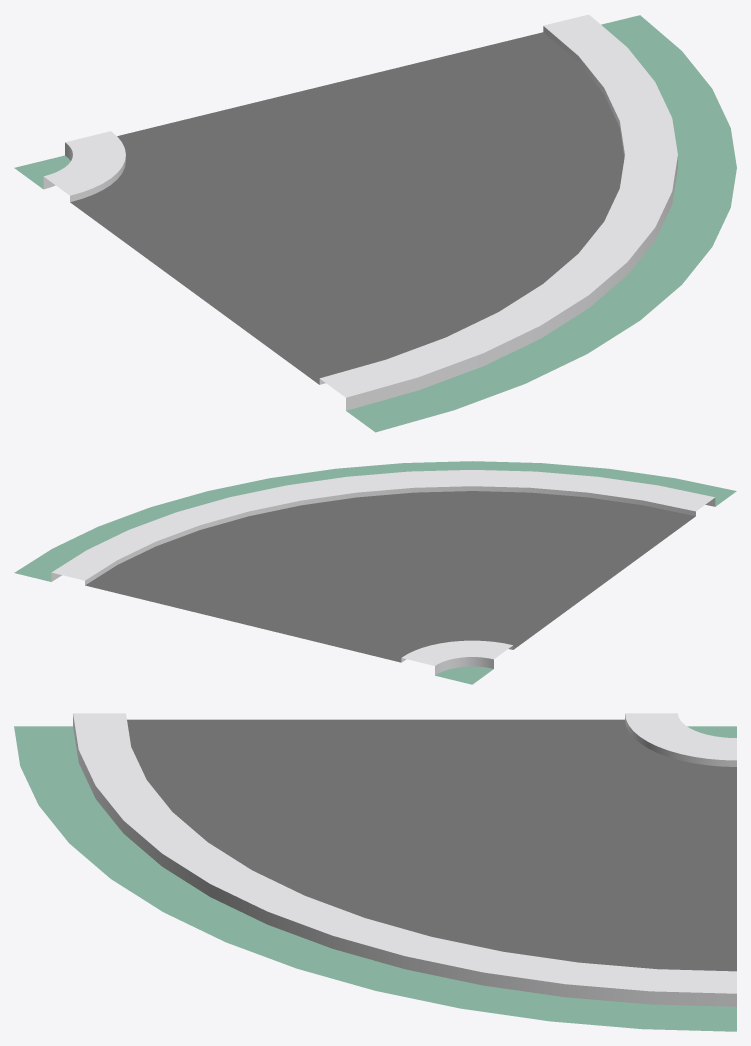
File: road12.fbx
3 views of the same model, one above another, from view 1: azimuth 30°, elevation 25°; view 2: azimuth 150°, elevation 25°; view 3: azimuth 270°, elevation 25° (orthographic). The views are drawn at different scales.
Parts seen in each view (by area): view 1: roadCornerSmall; view 2: roadCornerSmall; view 3: roadCornerSmall.
Boxes of the visible parts, <box> form: roadCornerSmall: <box>14,14,736,432</box>; roadCornerSmall: <box>14,461,736,684</box>; roadCornerSmall: <box>14,713,736,1031</box>.
Bounding box in the file's own units: 1000 × 20 × 1000.
